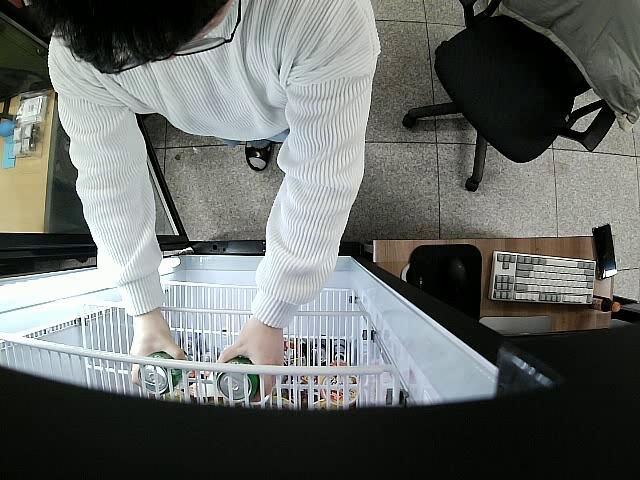00_hand: (219, 333, 283, 400), (131, 329, 185, 386)
12_chilsungCider: (139, 353, 191, 394), (216, 360, 259, 402)
